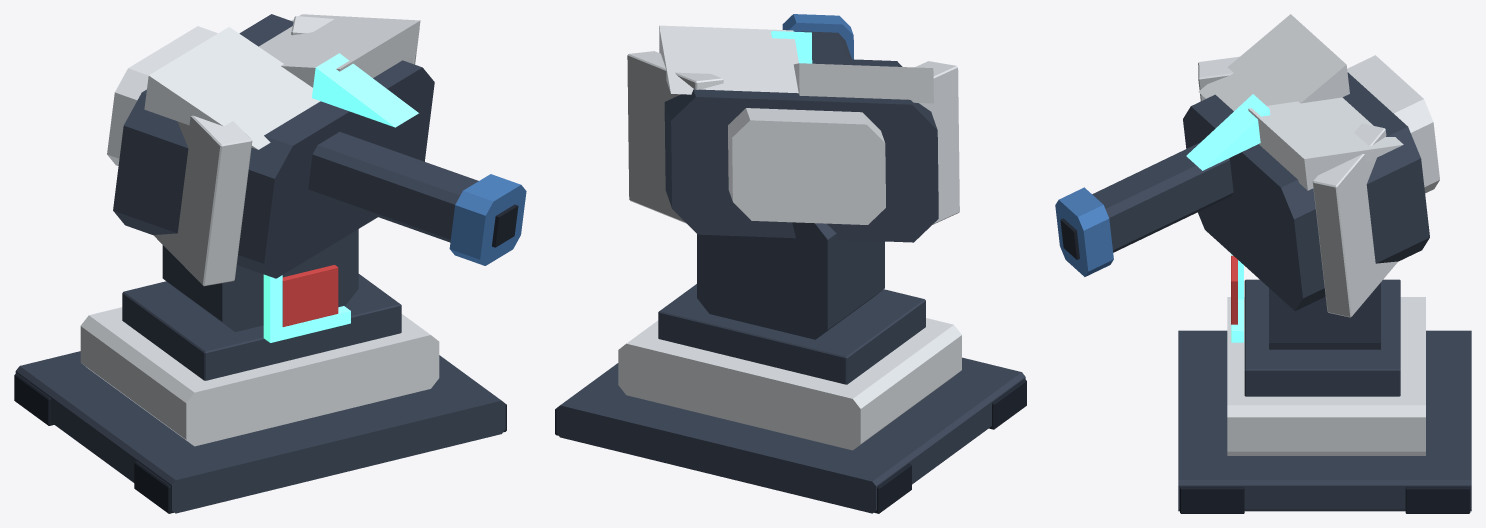
File: critical.glb
The picture shows the model from 3 angles, left to right: view 1: azimuth 30°, elevation 25°; view 2: azimuth 150°, elevation 25°; view 3: azimuth 270°, elevation 25°; orthographic projection. The views are drawn at different scales.
Parts seen in each view (by area): view 1: ROLE_primary, ROLE_secondary, ROLE_interaction, ROLE_accent, ROLE_rubber, ROLE_critical; view 2: ROLE_primary, ROLE_secondary, ROLE_rubber, ROLE_accent, ROLE_interaction; view 3: ROLE_primary, ROLE_secondary, ROLE_rubber, ROLE_interaction, ROLE_accent, ROLE_critical.
Part boxes in pixels (x1=…): ROLE_primary: x1=15, y1=14, x2=505, y2=513; ROLE_secondary: x1=80, y1=14, x2=439, y2=446; ROLE_interaction: x1=263, y1=53, x2=418, y2=342; ROLE_accent: x1=449, y1=174, x2=526, y2=265; ROLE_rubber: x1=14, y1=204, x2=518, y2=513; ROLE_critical: x1=282, y1=265, x2=338, y2=326; ROLE_primary: x1=556, y1=31, x2=1025, y2=513; ROLE_secondary: x1=618, y1=25, x2=961, y2=450; ROLE_rubber: x1=555, y1=379, x2=1026, y2=513; ROLE_accent: x1=782, y1=14, x2=853, y2=59; ROLE_interaction: x1=771, y1=31, x2=812, y2=63; ROLE_primary: x1=1092, y1=72, x2=1471, y2=511; ROLE_secondary: x1=1198, y1=14, x2=1439, y2=455; ROLE_rubber: x1=1060, y1=218, x2=1470, y2=513; ROLE_interaction: x1=1186, y1=94, x2=1270, y2=342; ROLE_accent: x1=1055, y1=187, x2=1113, y2=276; ROLE_critical: x1=1231, y1=255, x2=1237, y2=324.
Bounding box in the file's own units: 4.29 × 5.4 × 4.86.
